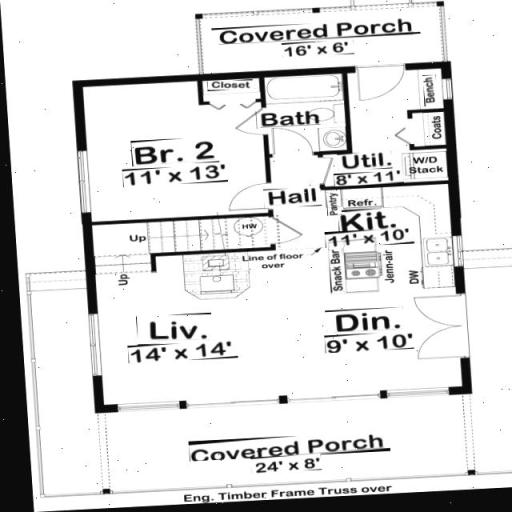bathroom: (273, 81, 354, 153)
bedroom: (83, 88, 266, 200)
closet: (343, 75, 454, 175)
hall: (100, 225, 307, 403)
kitchen: (310, 193, 459, 394)
porch: (109, 410, 466, 472), (200, 16, 437, 60)
